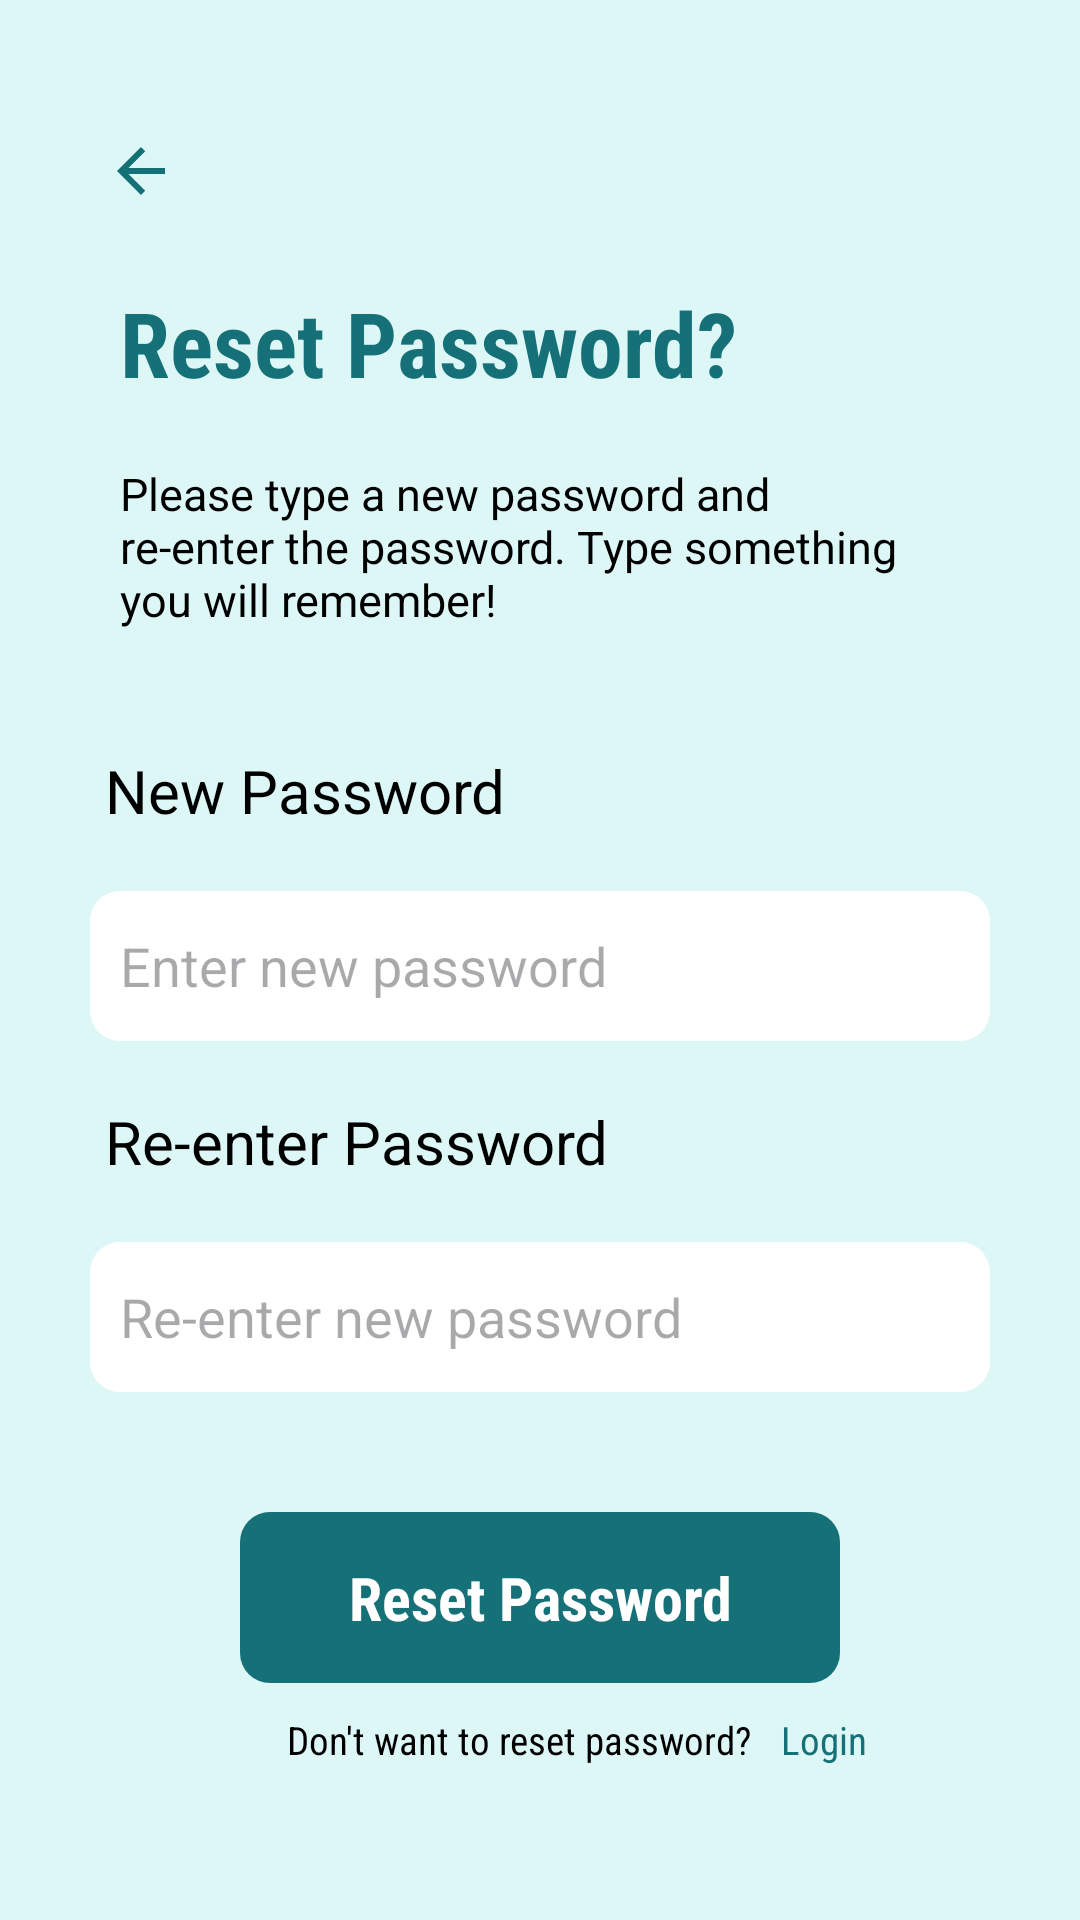

Where to tap for icons on this 1080x1920 app screen, as (x,y):
arrow back: (141,171)
